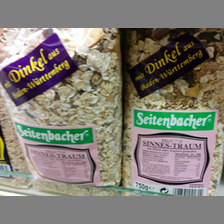cereal: (1, 28, 120, 196), (123, 27, 223, 195)
